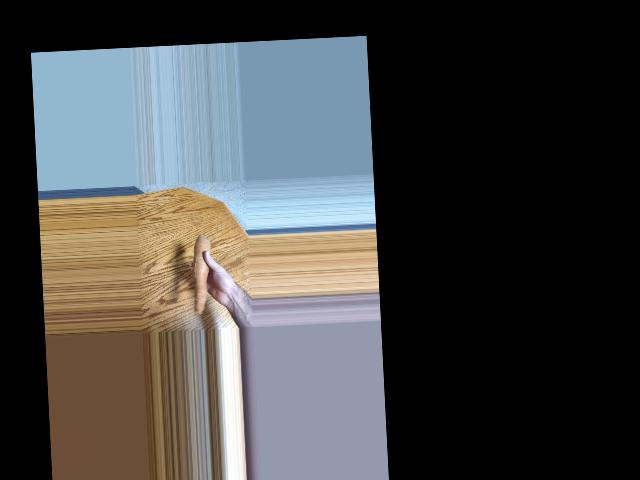sweet_potato: (189, 236, 211, 317)
